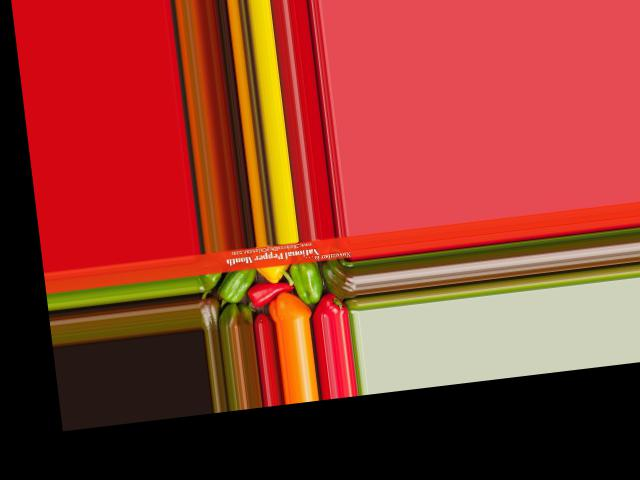bell_pepper: (321, 256, 356, 300)
